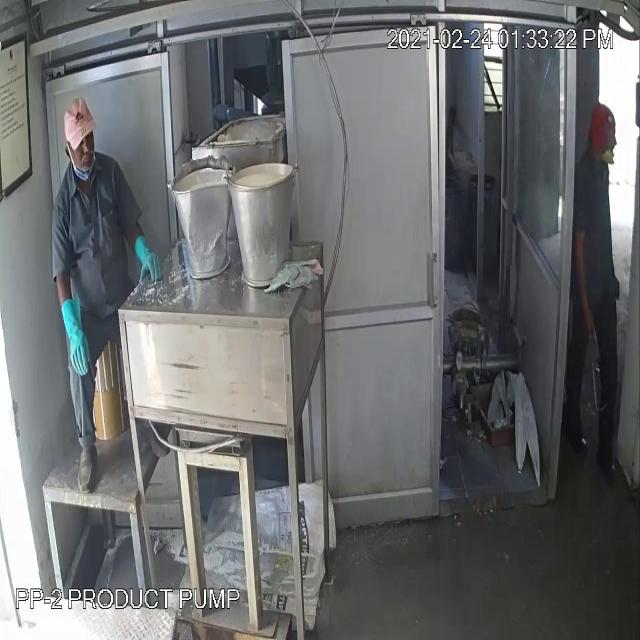no-helmet: (59, 84, 96, 160)
